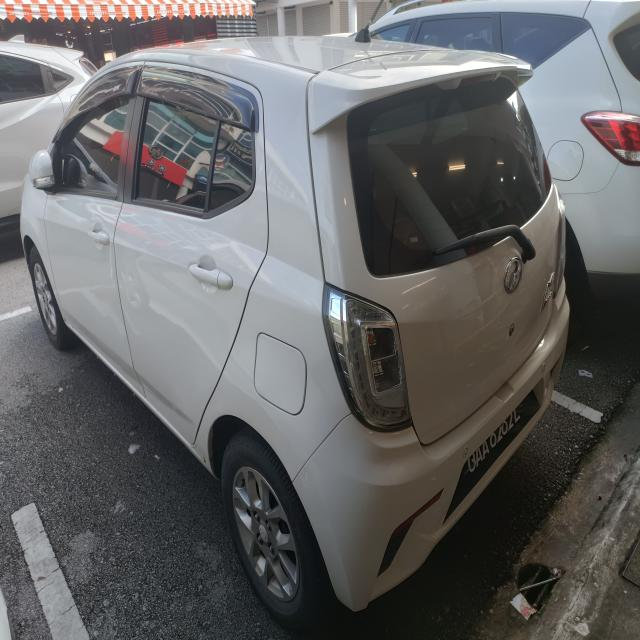PeroduaAxia: (18, 31, 571, 630)
